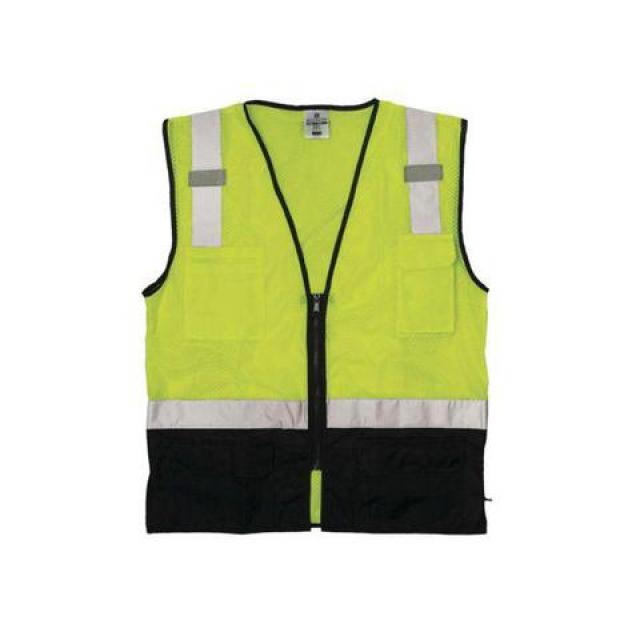Reflective-Jacket: (98, 84, 530, 533)
